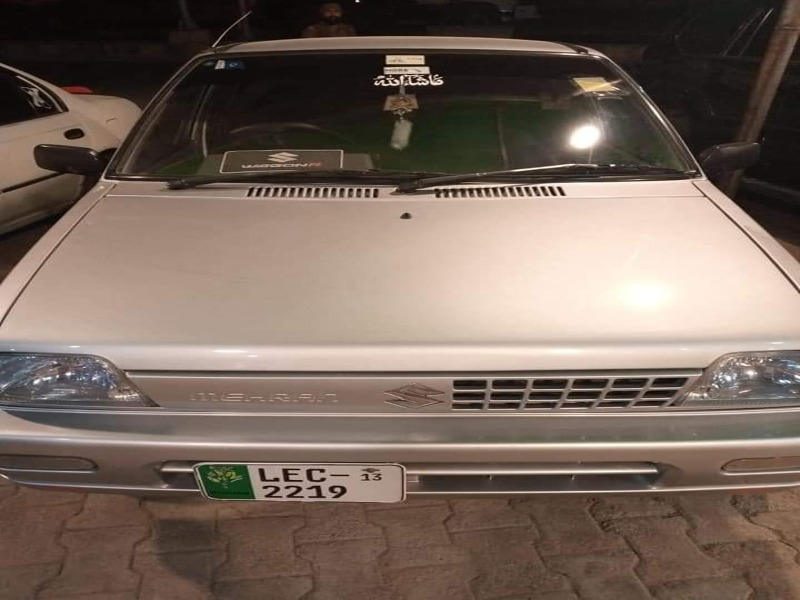License Plate: (191, 457, 409, 506)
